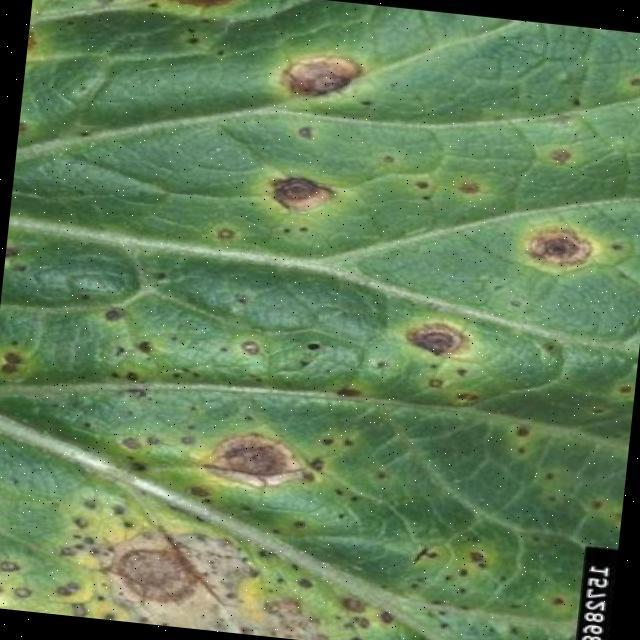Healthy: (79, 29, 623, 640)
